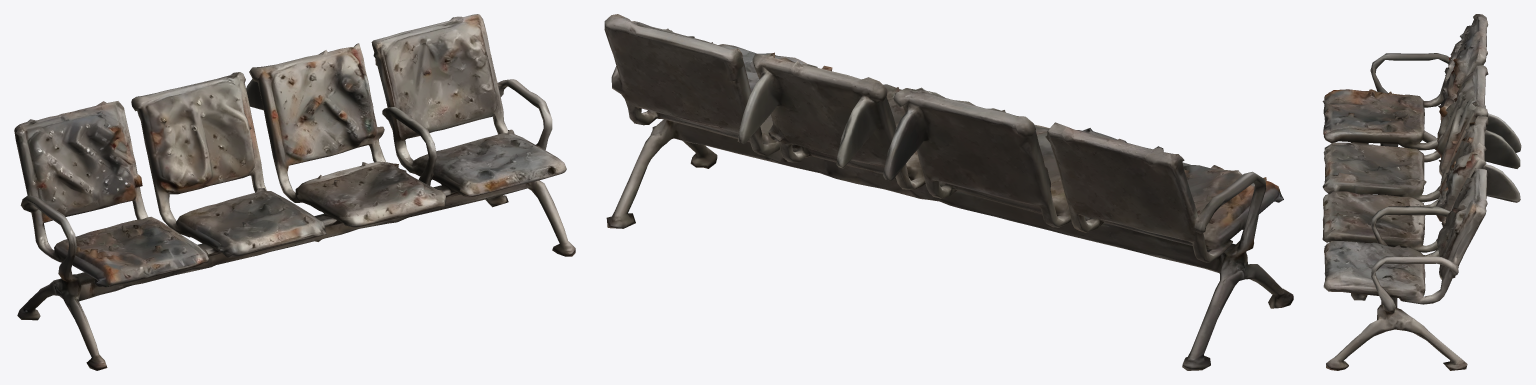
File: waiting_chairs.glb
The picture shows the model from 3 angles, left to right: view 1: azimuth 30°, elevation 25°; view 2: azimuth 150°, elevation 25°; view 3: azimuth 270°, elevation 25°; orthographic projection. The views are drawn at different scales.
Parts seen in each view (by area): view 1: waiting_chairs / mesh; view 2: waiting_chairs / mesh; view 3: waiting_chairs / mesh.
Part boxes in pixels (x1,y1,x2,y2): waiting_chairs / mesh: (14, 14, 575, 370); waiting_chairs / mesh: (604, 14, 1293, 370); waiting_chairs / mesh: (1322, 14, 1521, 370).
Bounding box in the file's own units: 2.15 × 0.765 × 0.8692.
Materials: 1 (1 with a texture image).
